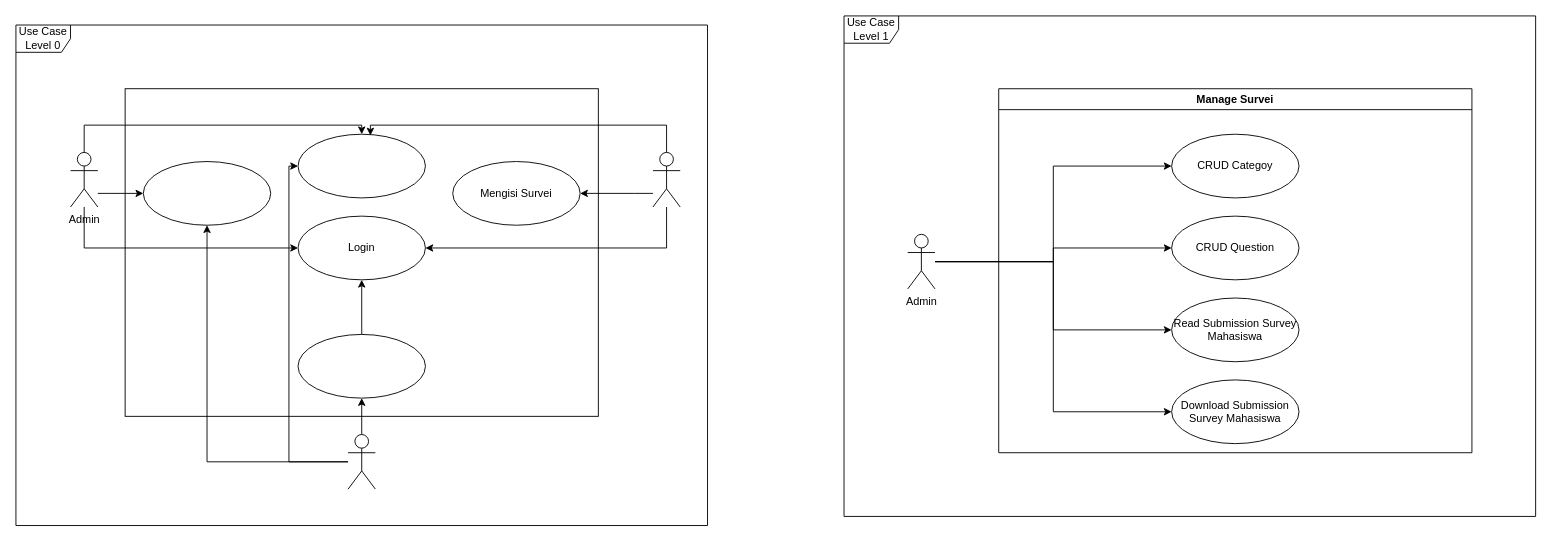
Image size: 1552x541. Some labels were removed from this diagram. The centre of each missing label's shape, as x and y in pixels:
Mahasiswa: the point at 666,179
Manage Signature: the point at 361,366
Manage Survey: the point at 206,193
Melihat halaman verifikasi surat: the point at 361,165
Superadmin: the point at 361,461
